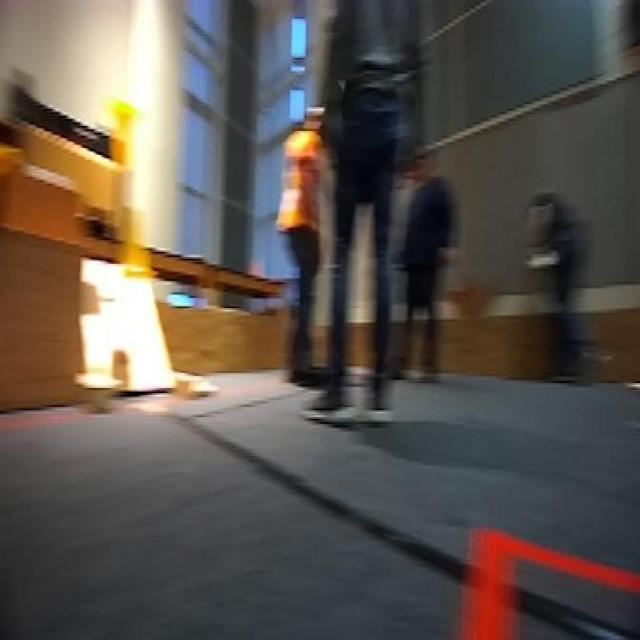frc_cone: (110, 92, 148, 174), (127, 211, 159, 288), (0, 126, 30, 208)
